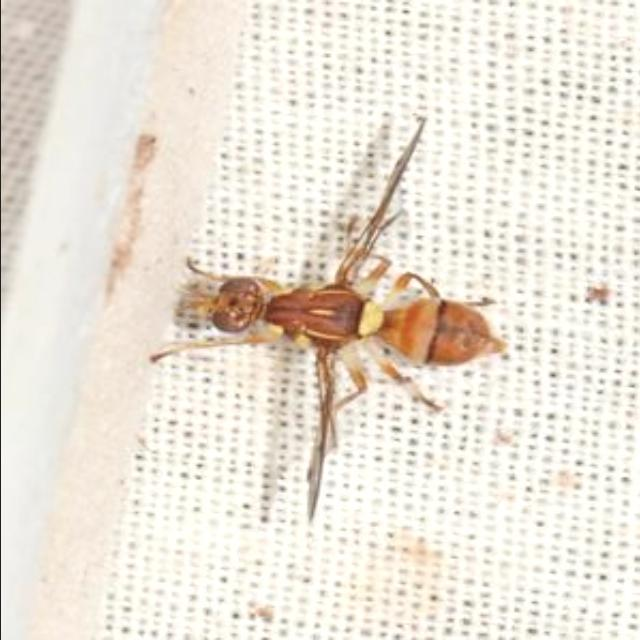melon fly: (122, 85, 528, 515)
